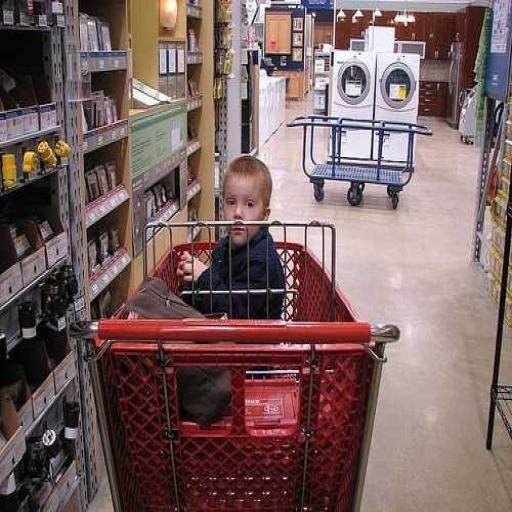shopping_cart: (76, 220, 401, 512)
